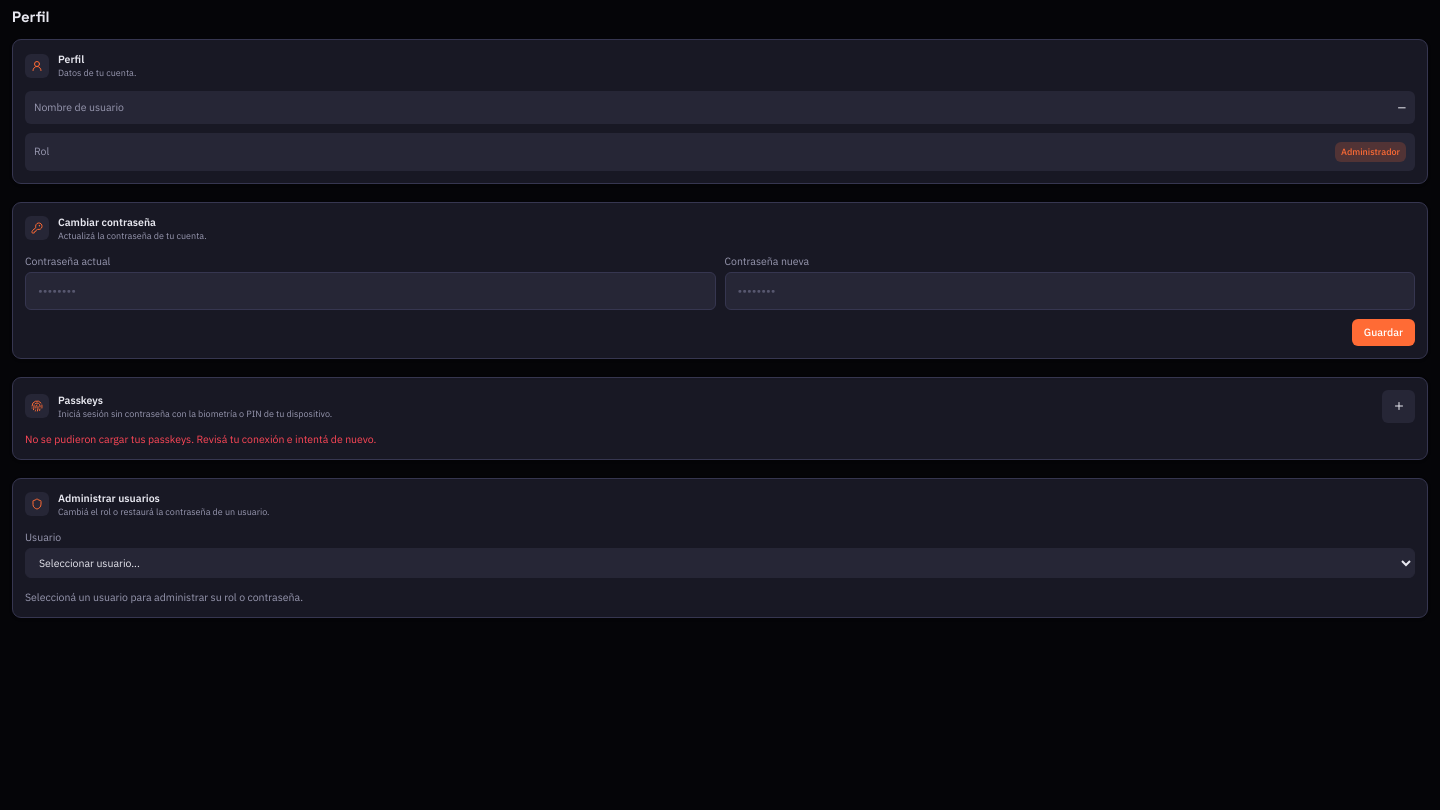
Scenario: Perfil: administrar usuarios (issue #99) › copia el código de un solo uso al portapapeles
Step 1. Select "juan — Empleado" in the dropdown labelled "Usuario" → {"x": 720, "y": 562}, box [25,548,1415,578]
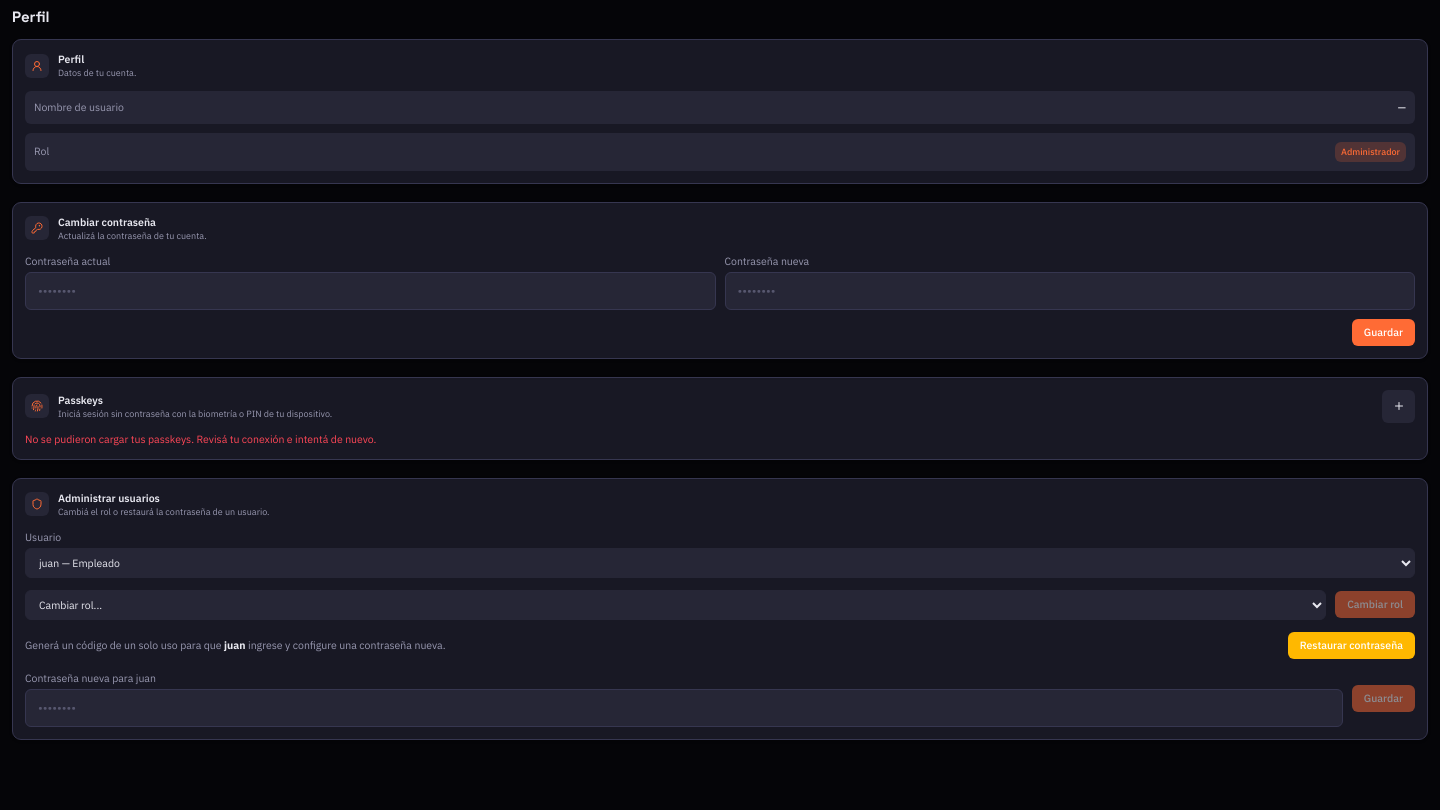
expect the button "Restaurar contraseña" is shown: met
Step 2. Click the button "Restaurar contraseña" → {"x": 1351, "y": 645}, box [1288,632,1415,658]
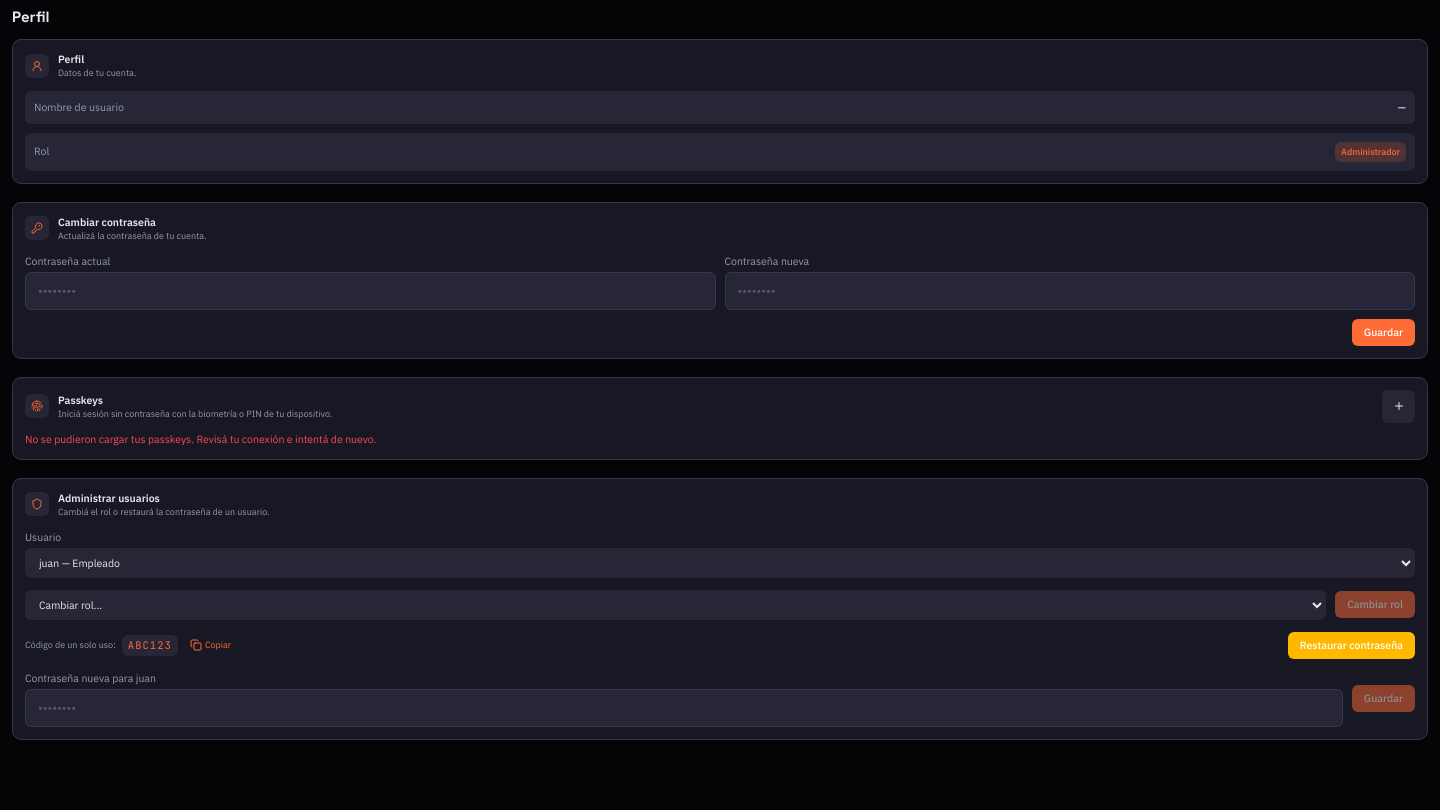
expect the text "ABC123" is shown: met, box [122,634,178,656]
Step 3. Click the button with aria-label "Copiar código" → {"x": 210, "y": 645}, box [184,636,237,654]
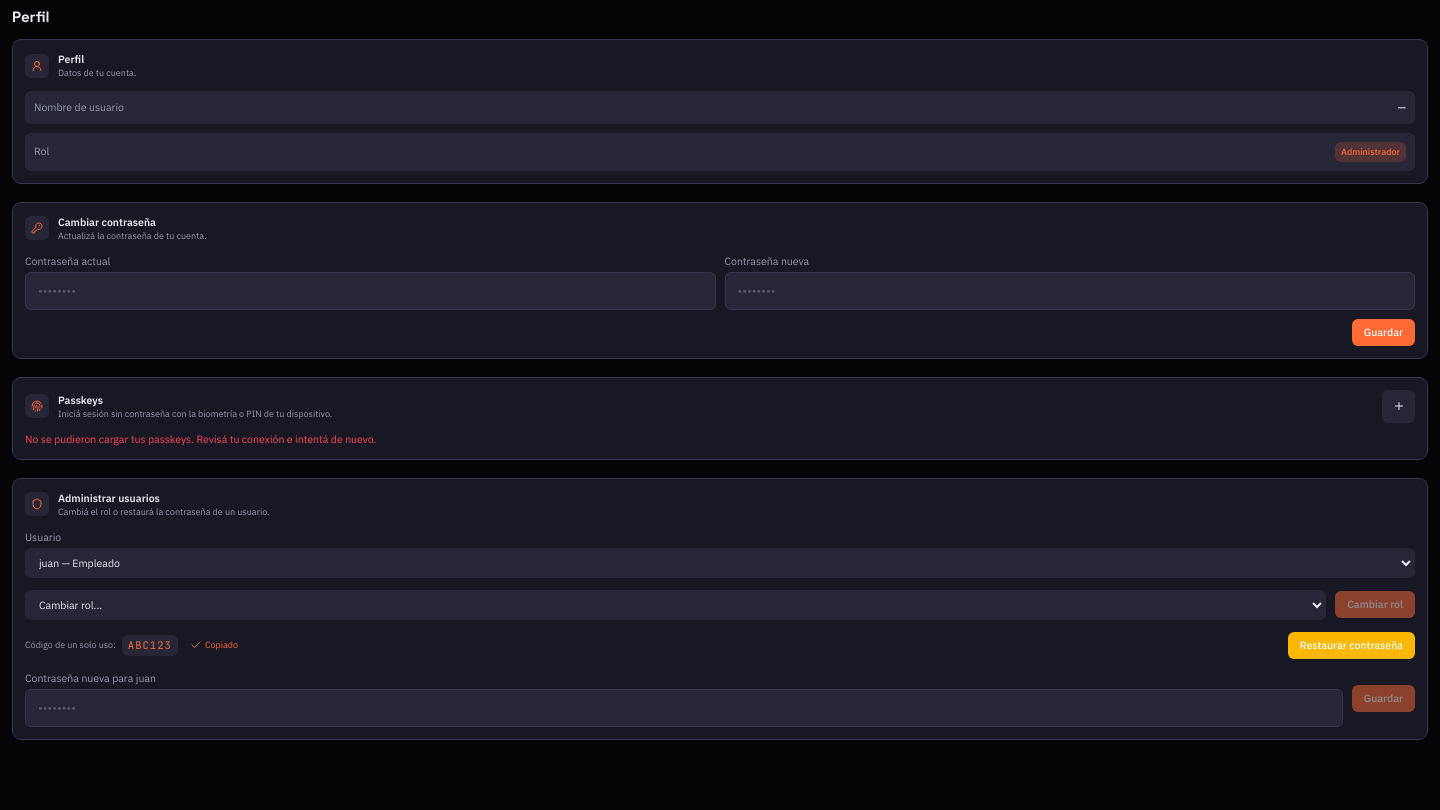
expect the button "Copiado" is shown: met, box [184,636,244,654]
